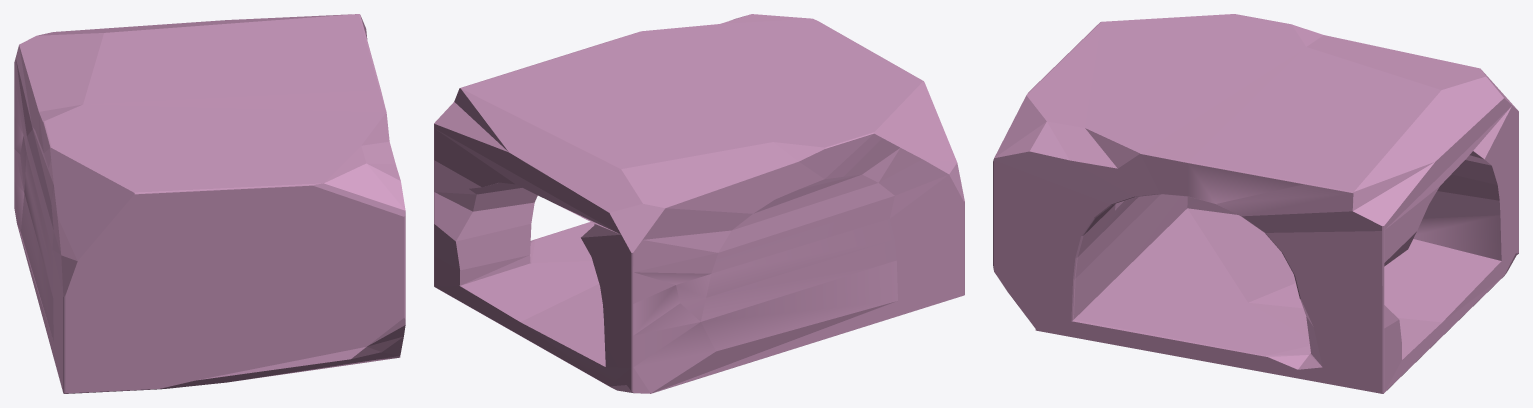
The model's file is kocia_chatka_dwa_drzwi_splaszczona_zamknieta 1.fbx.
The picture shows the model from 3 angles, left to right: view 1: azimuth 30°, elevation 25°; view 2: azimuth 150°, elevation 25°; view 3: azimuth 270°, elevation 25°; orthographic projection. The views are drawn at different scales.
Visible parts, largest first — view 1: kocia_chatka_dwa_drzwi_splaszczona; view 2: kocia_chatka_dwa_drzwi_splaszczona; view 3: kocia_chatka_dwa_drzwi_splaszczona.
Boxes of the visible parts, x1,y1,x2,y2 form: kocia_chatka_dwa_drzwi_splaszczona: [14, 14, 405, 393]; kocia_chatka_dwa_drzwi_splaszczona: [434, 14, 964, 393]; kocia_chatka_dwa_drzwi_splaszczona: [993, 14, 1518, 393].
Size of the model in its own units: 445 by 200 by 486.
